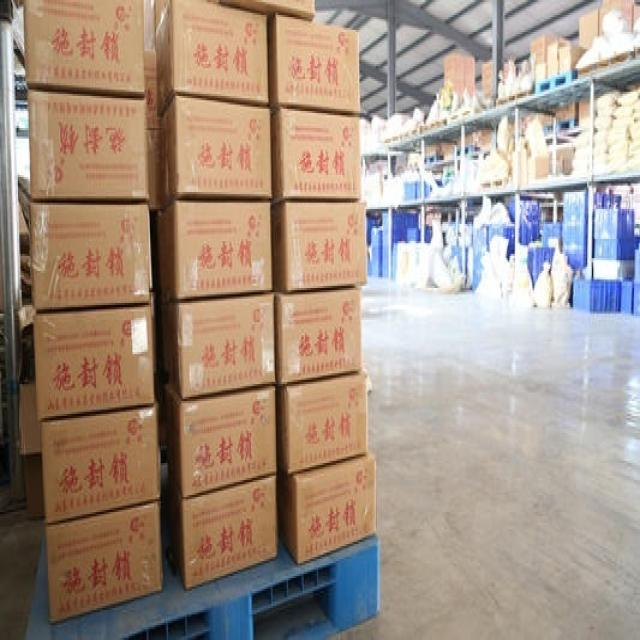box: (44, 503, 162, 625), (40, 405, 161, 523), (34, 307, 154, 420), (157, 92, 271, 209), (30, 203, 150, 311), (154, 2, 268, 115), (28, 92, 149, 198), (167, 384, 277, 499), (165, 294, 275, 401), (160, 201, 271, 307), (22, 2, 145, 96), (183, 474, 277, 591), (288, 450, 377, 563), (270, 107, 363, 207), (267, 15, 361, 113), (270, 201, 369, 294), (282, 373, 369, 471), (275, 288, 361, 386), (146, 115, 163, 209), (443, 51, 475, 92), (144, 49, 158, 115), (531, 34, 558, 66), (558, 45, 585, 77), (579, 11, 598, 43), (549, 45, 558, 77)
